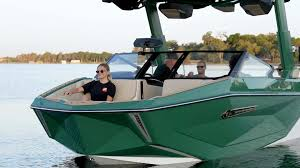boat: (30, 1, 300, 168)
